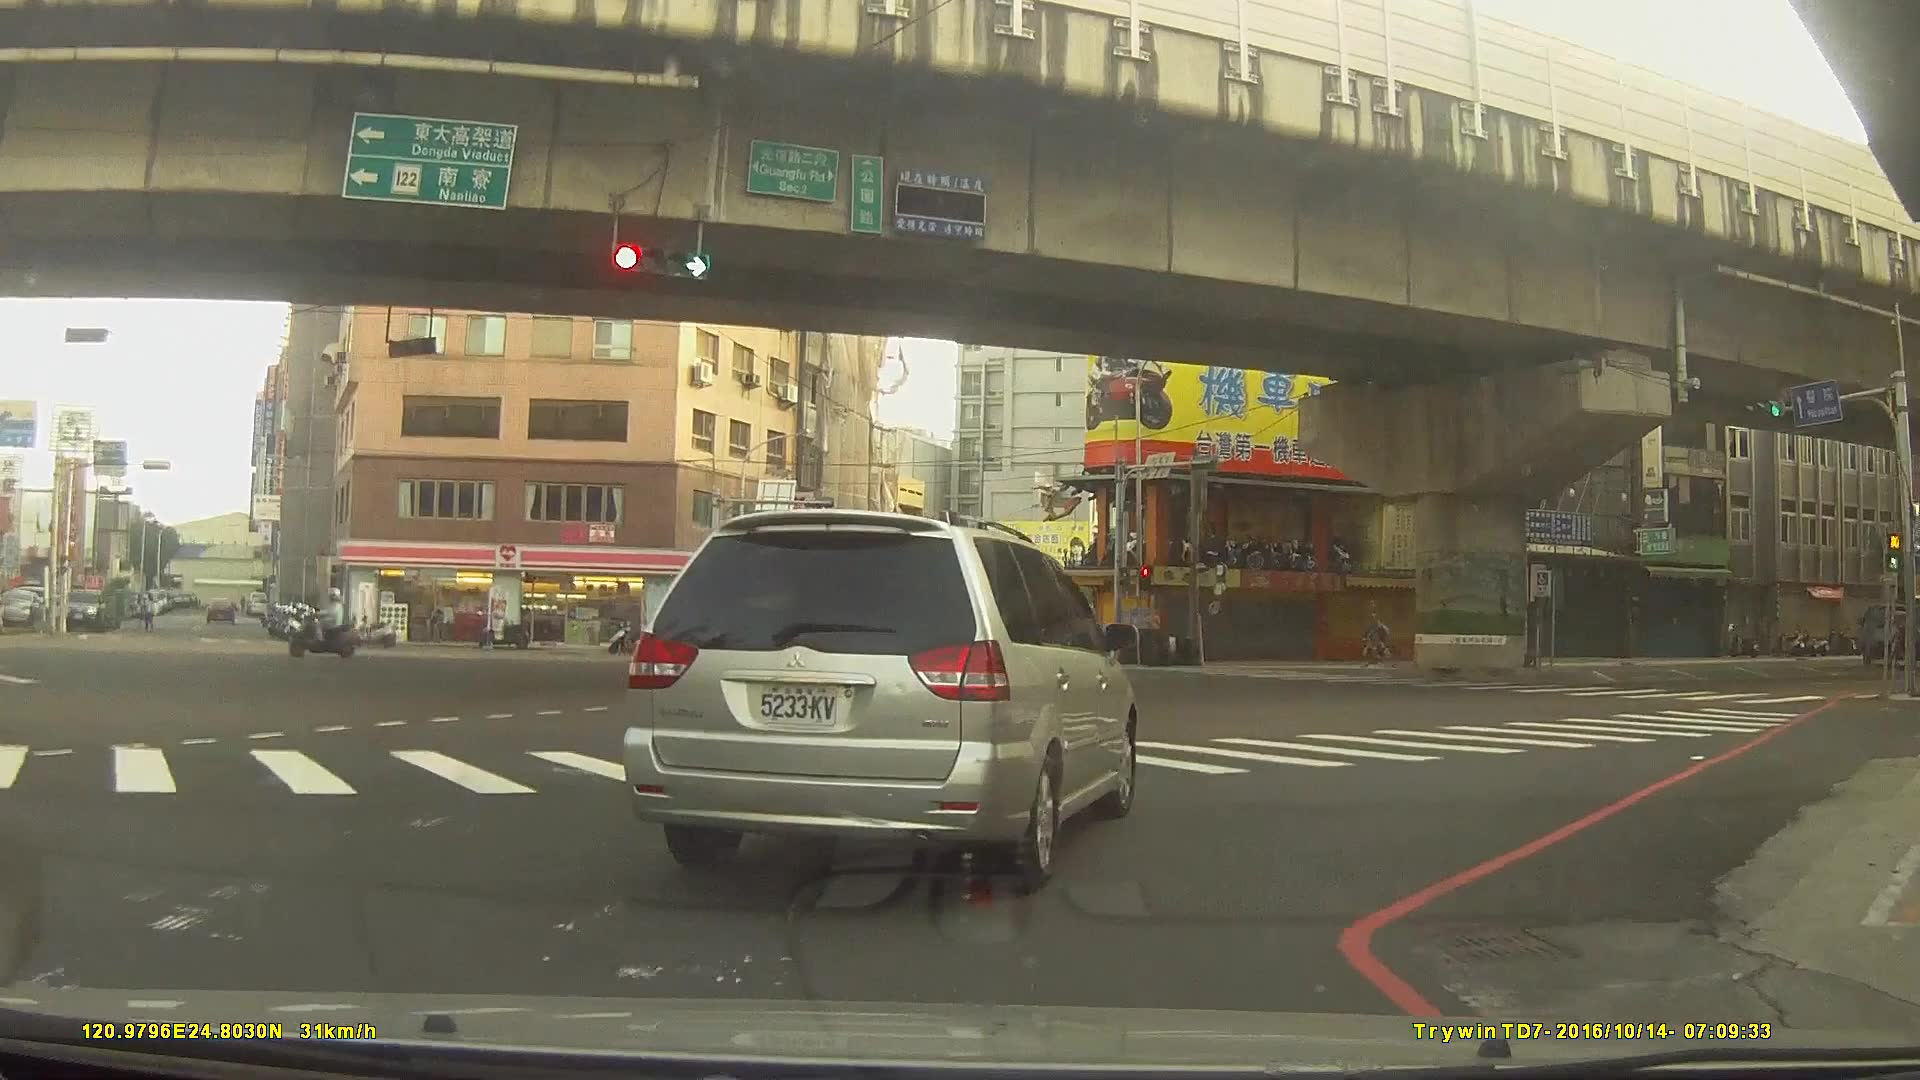rider: (290, 591, 366, 660), (1349, 613, 1398, 672)
vehicle: (620, 507, 1141, 883), (1855, 600, 1920, 664), (866, 628, 936, 668), (60, 586, 104, 631), (543, 606, 605, 633), (201, 594, 235, 622)
